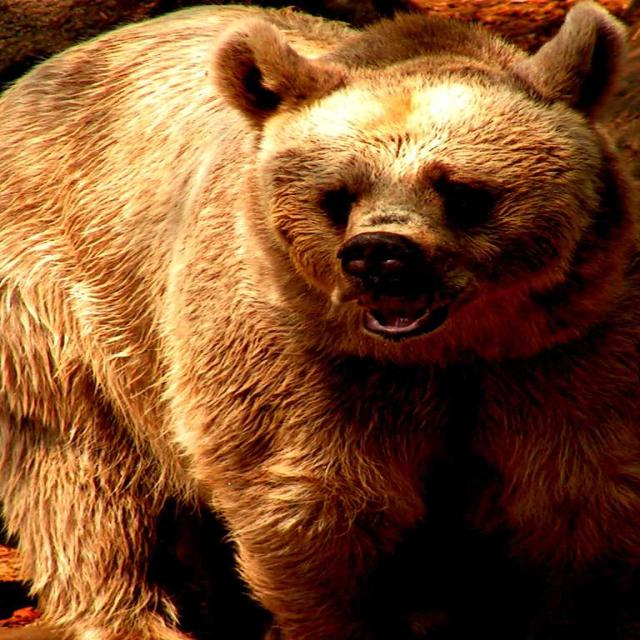Cheetahs: (0, 1, 639, 639)
